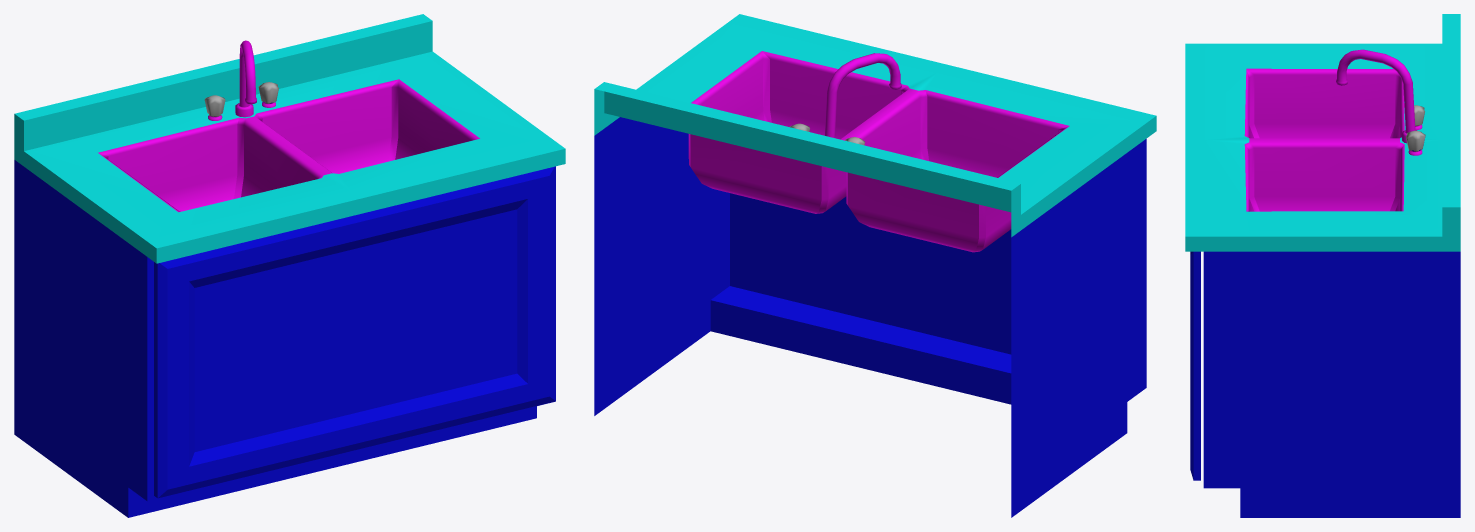
Rendered from Kitchen_Sink.fbx.
3 renders of one model, left to right at view 1: azimuth 30°, elevation 25°; view 2: azimuth 150°, elevation 25°; view 3: azimuth 270°, elevation 25°, orthographic. The views are drawn at different scales.
Visible parts, largest first — view 1: SM_Sink; view 2: SM_Sink; view 3: SM_Sink.
Part boxes in pixels (bbox=[...]): SM_Sink: bbox=[14, 14, 565, 517]; SM_Sink: bbox=[594, 14, 1156, 517]; SM_Sink: bbox=[1185, 14, 1460, 517].
Bounding box in the file's own units: 150 × 131 × 90.41.
